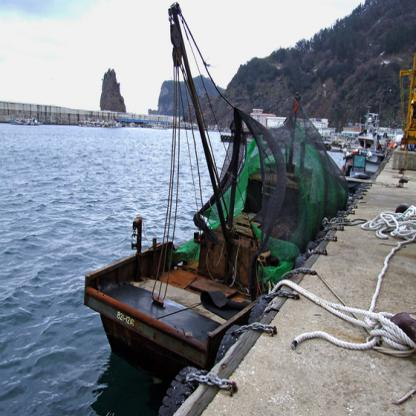fish-b: (69, 101, 356, 372)
